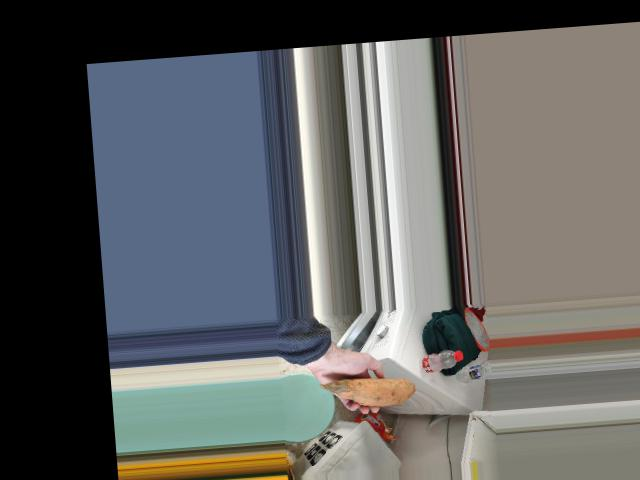sweet_potato: (325, 374, 407, 411)
